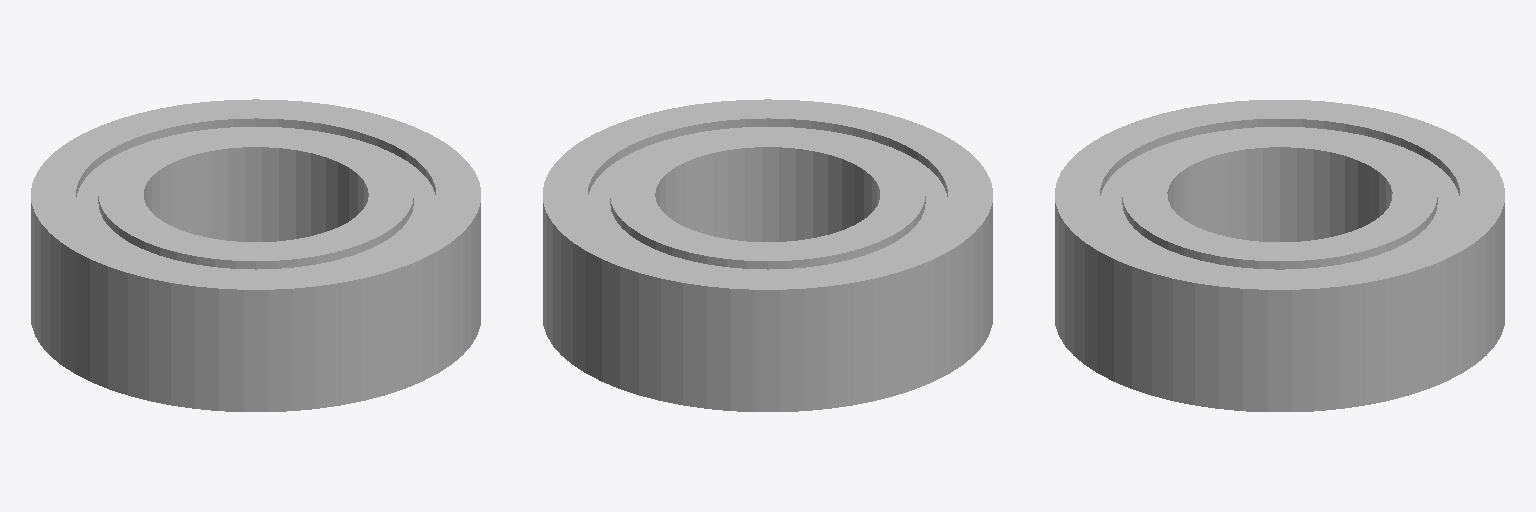
File: bearing3.obj
The picture shows the model from 3 angles: view 1: azimuth 30°, elevation 25°; view 2: azimuth 150°, elevation 25°; view 3: azimuth 270°, elevation 25°; orthographic projection.
Size of the model in its own units: 9.99 by 3 by 10.